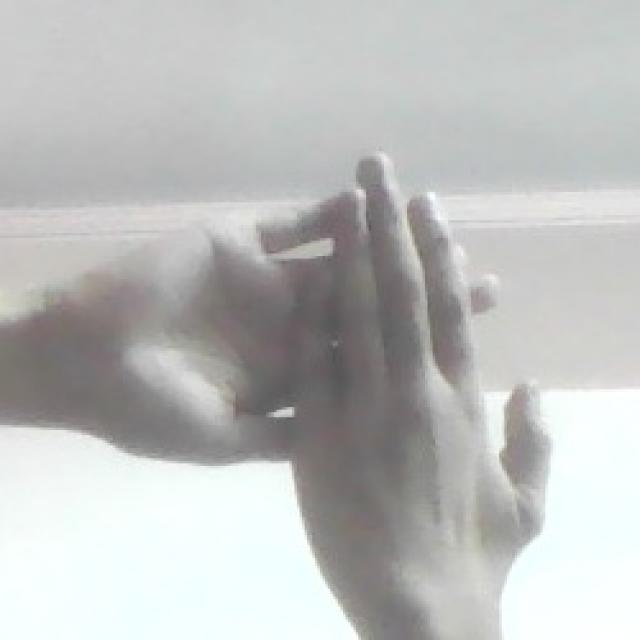Alphabet-H: (75, 140, 557, 618)
